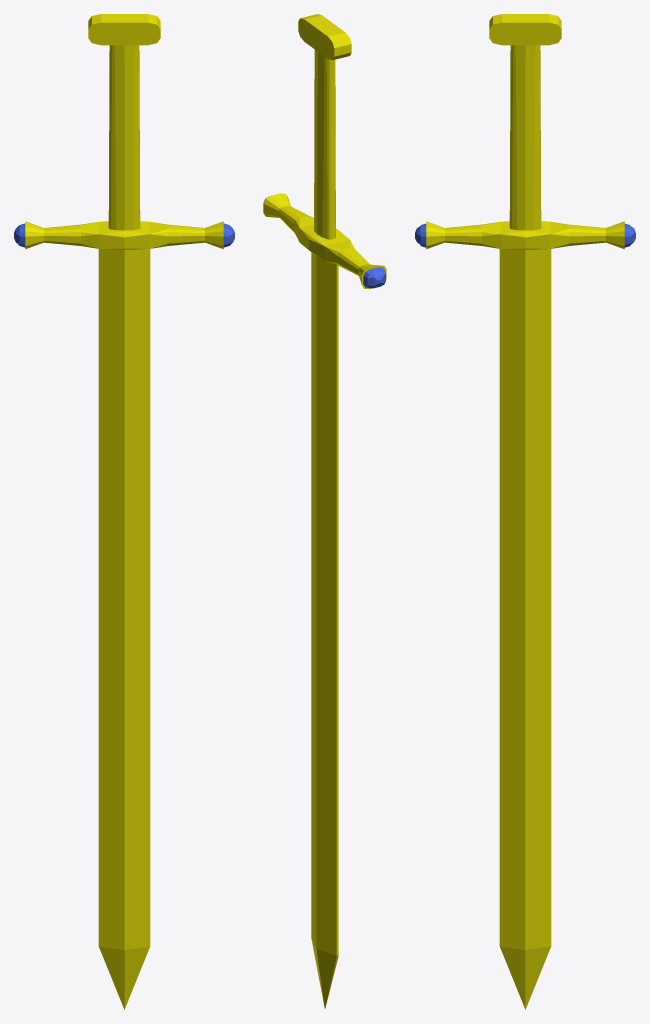
The model's file is sword.fbx.
3 renders of one model, left to right at view 1: azimuth 90°, elevation 25°; view 2: azimuth 210°, elevation 25°; view 3: azimuth 270°, elevation 25°, orthographic.
Visible parts, largest first — view 1: Cylinder; view 2: Cylinder; view 3: Cylinder.
Part boxes in pixels (box(x1,y1,x2,y2)): Cylinder: box(14, 14, 234, 1009); Cylinder: box(263, 14, 386, 1008); Cylinder: box(415, 14, 635, 1009).
Size of the model in its own units: 33.05 by 1002 by 202.
